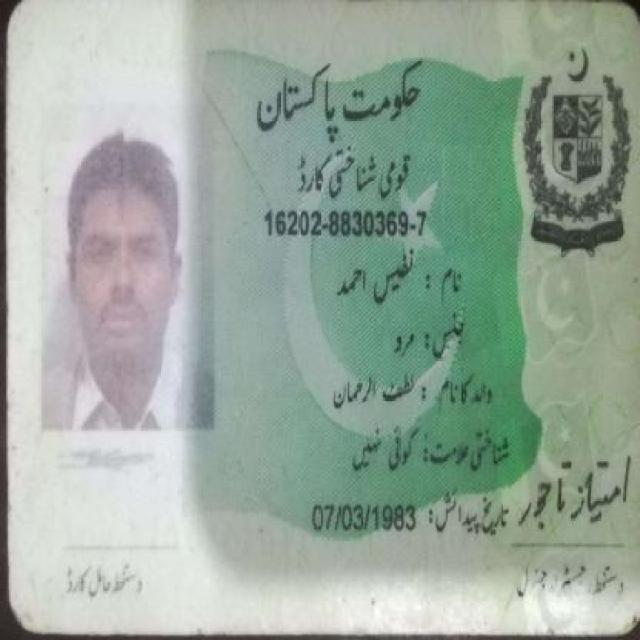Front: (12, 12, 638, 622)
